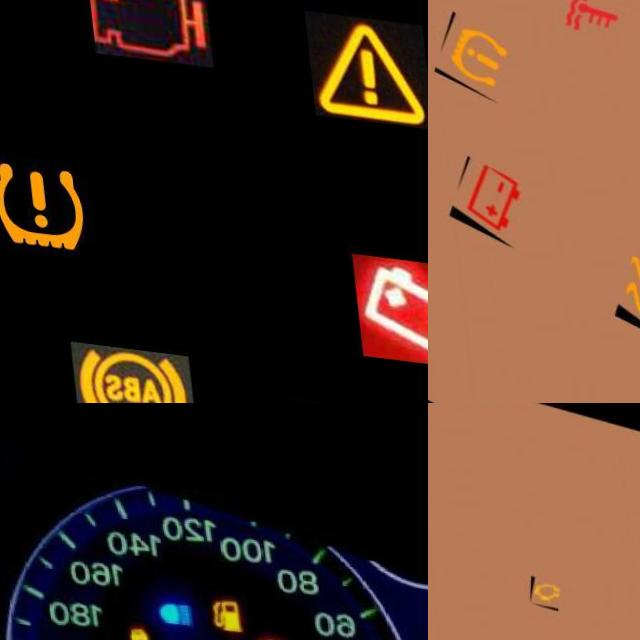Central Warning lamp: (303, 1, 428, 118)
Low fuel level: (203, 583, 244, 627)
